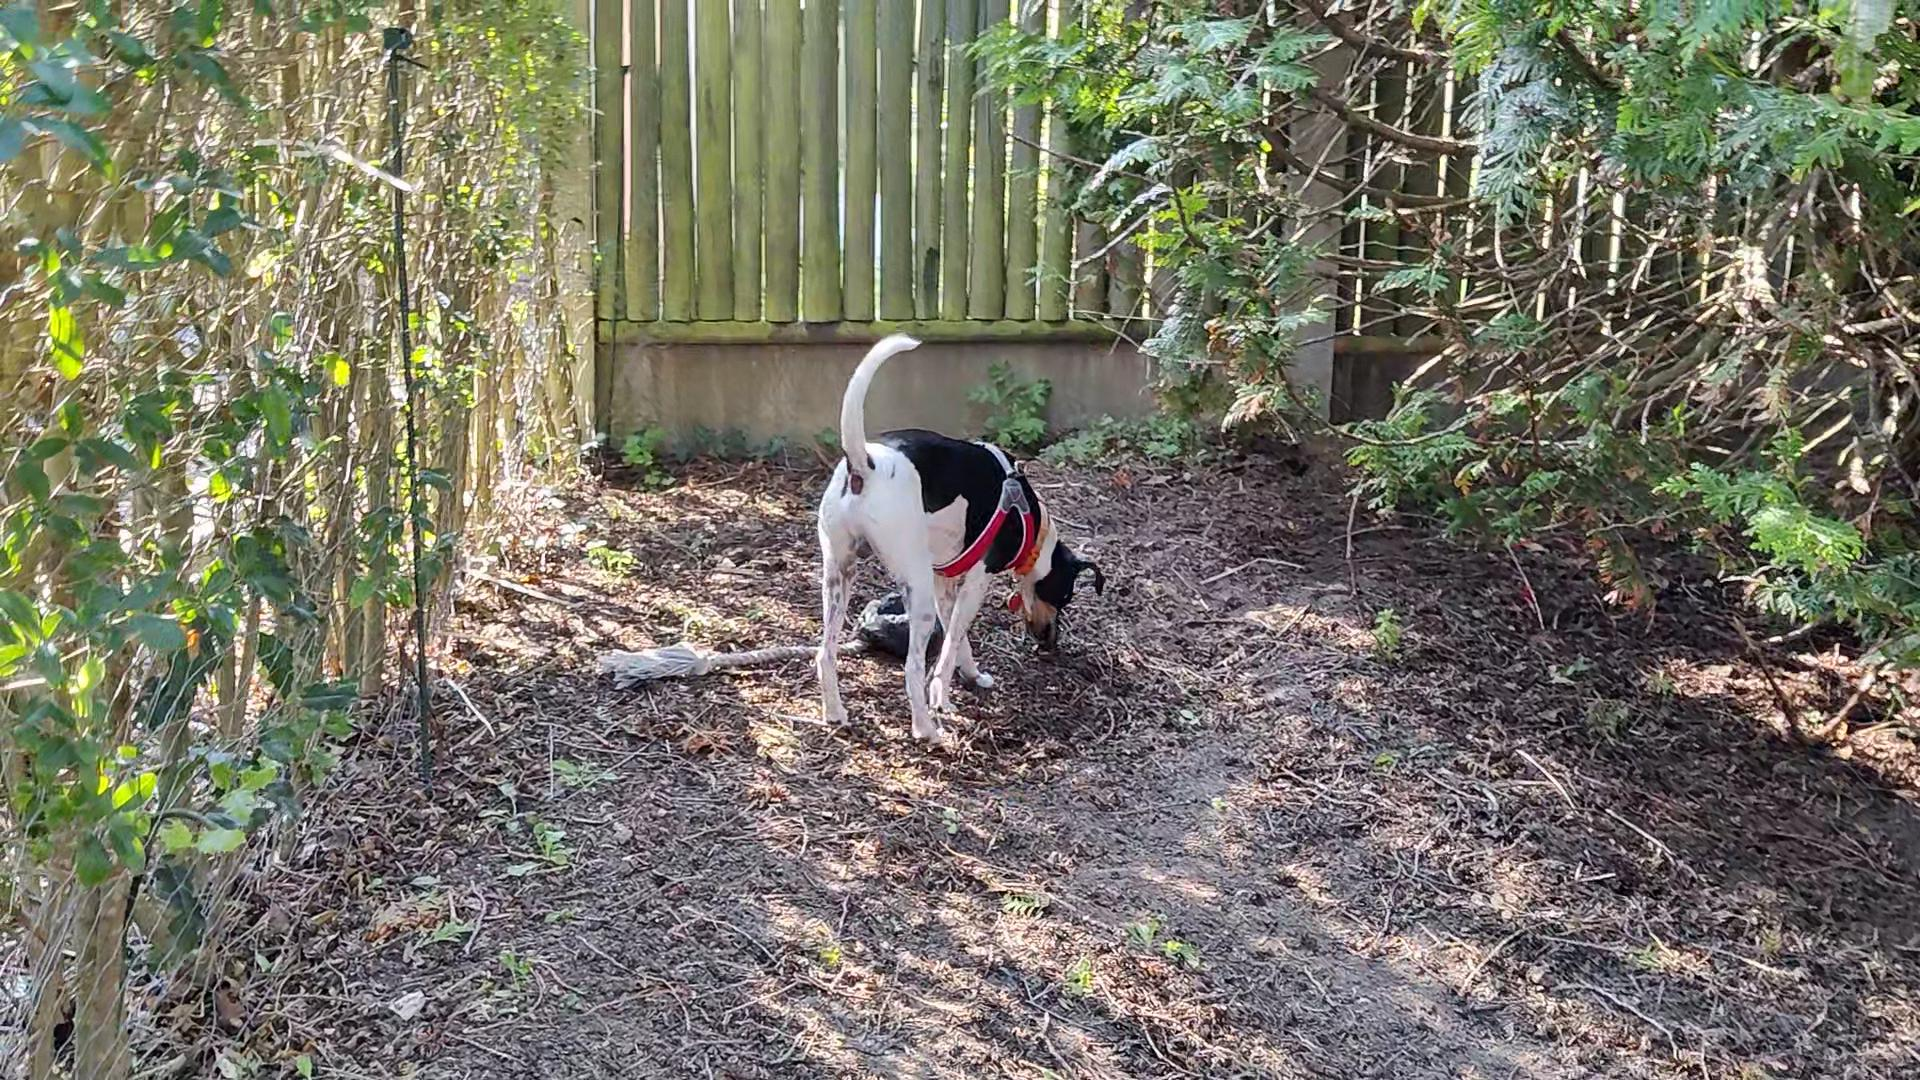Dog: (766, 320, 1116, 758)
